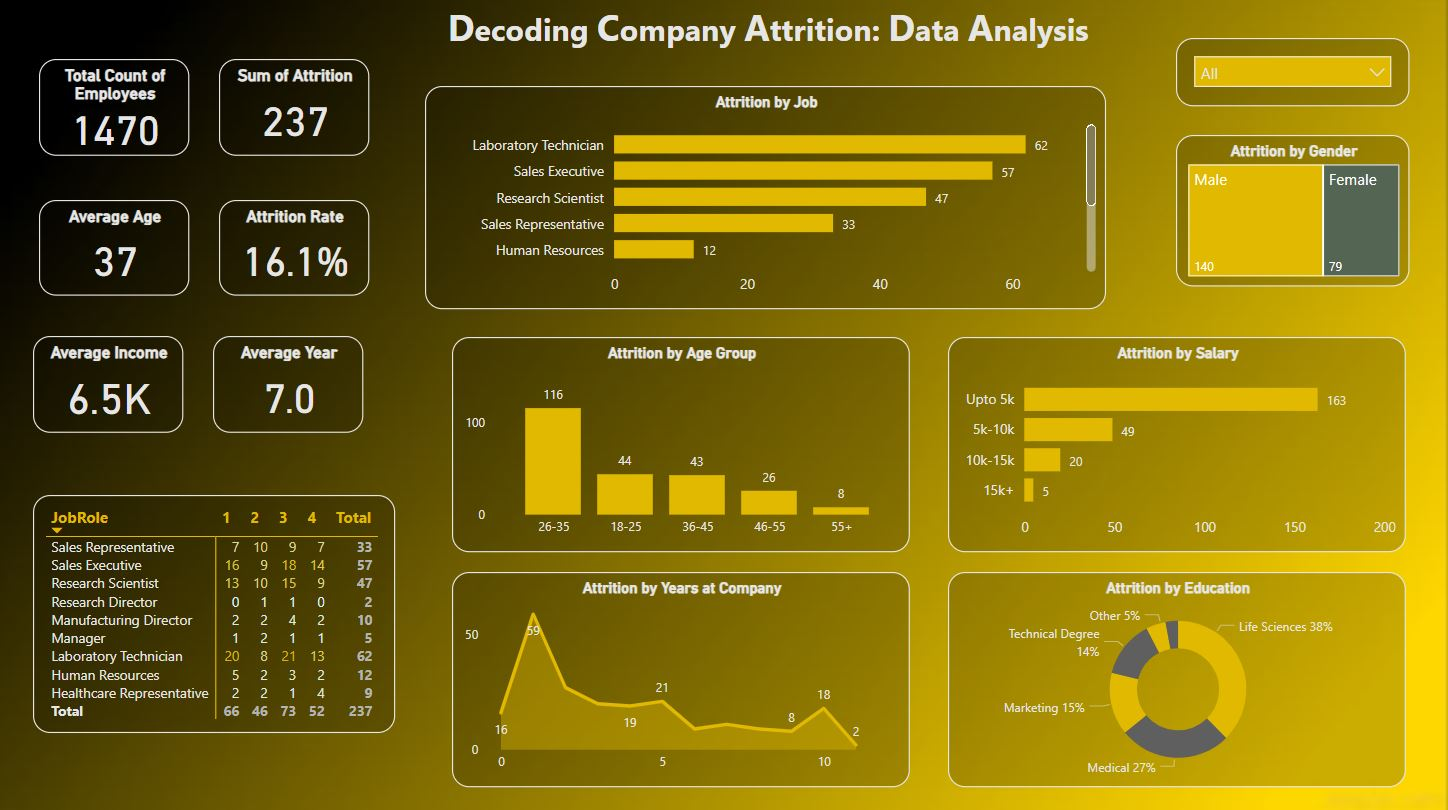

The dashboard page shown, as its layout file describes it:
{"tool":"powerbi","page":{"name":"Page 1","canvas":[1280,720],"ordinal":0},"visuals":[{"type":"card","title":"Total Count of Employees","fields":{"Values":["CountNonNull(HR Analytics.EmpID)"]},"box":[37.8,56.2,131.7,85.2],"z":0},{"type":"card","title":"Sum of Attrition","fields":{"Values":["Sum(HR Analytics.AttritionCount)"]},"box":[195.8,56.2,131.7,85.2],"z":1000},{"type":"card","title":"Attrition Rate ","fields":{"Values":["HR Analytics.AttritionRate"]},"box":[195.8,180,131.7,84.3],"z":2000},{"type":"card","title":"Average Age","fields":{"Values":["Avg(HR Analytics.Age)"]},"box":[37.8,180,131.7,84.3],"z":3000},{"type":"card","title":"Average Year","fields":{"Values":["Avg(HR Analytics.YearsAtCompany)"]},"box":[190.5,299.4,131.7,85.2],"z":4000},{"type":"card","title":"Average Income","fields":{"Values":["Avg(HR Analytics.MonthlyIncome)"]},"box":[32.5,299.4,131.7,85.2],"z":5000},{"type":"donutChart","title":"Attrition by Education ","fields":{"Y":["Sum(HR Analytics.AttritionCount)"],"Category":["HR Analytics.EducationField"]},"box":[835.9,506.6,402.1,188.8],"z":6000},{"type":"columnChart","title":"Attrition by Age Group","fields":{"Category":["HR Analytics.AgeGroup"],"Y":["Sum(HR Analytics.AttritionCount)"]},"box":[400.4,300.3,402.1,188.8],"z":7000},{"type":"pivotTable","fields":{"Rows":["HR Analytics.JobRole"],"Values":["Sum(HR Analytics.AttritionCount)"],"Columns":["HR Analytics.JobSatisfaction"]},"box":[32.5,439,317.9,209],"z":8000},{"type":"barChart","title":"Attrition by Salary","fields":{"Category":["HR Analytics.SalarySlab"],"Y":["Sum(HR Analytics.AttritionCount)"]},"box":[835.9,300.3,402.1,188.8],"z":9000},{"type":"barChart","title":"Attrition by Job ","fields":{"Y":["Sum(HR Analytics.AttritionCount)"],"Category":["HR Analytics.JobRole"]},"box":[376.7,79.9,598,195.8],"z":10000},{"type":"areaChart","title":"Attrition by Years at Company","fields":{"Category":["HR Analytics.YearsAtCompany"],"Y":["Sum(HR Analytics.AttritionCount)"]},"box":[400.4,506.6,402.1,188.8],"z":11000},{"type":"treemap","title":"Attrition by Gender","fields":{"Group":["HR Analytics.Gender"],"Values":["Sum(HR Analytics.AttritionCount)"]},"box":[1036.1,122.9,205.5,133.5],"z":12000},{"type":"slicer","fields":{"Values":["HR Analytics.Department"]},"box":[1036.1,37.8,205.5,59.7],"z":13000},{"type":"textbox","box":[391.6,0,583,57.1],"z":14000}]}

Visuals, with their boxes in screenshot pixels (x1, y1, x2, y2), scaled from the page's 1280x720 canvas onto the 1448x810 screenshot:
"Total Count of Employees" card: left=43, top=63, right=192, bottom=159
"Sum of Attrition" card: left=221, top=63, right=370, bottom=159
"Attrition Rate " card: left=221, top=202, right=370, bottom=297
"Average Age" card: left=43, top=202, right=192, bottom=297
"Average Year" card: left=216, top=337, right=364, bottom=433
"Average Income" card: left=37, top=337, right=186, bottom=433
"Attrition by Education " donutChart: left=946, top=570, right=1400, bottom=782
"Attrition by Age Group" columnChart: left=453, top=338, right=908, bottom=550
pivotTable - HR Analytics.JobRole x Sum(HR Analytics.AttritionCount): left=37, top=494, right=396, bottom=729
"Attrition by Salary" barChart: left=946, top=338, right=1400, bottom=550
"Attrition by Job " barChart: left=426, top=90, right=1103, bottom=310
"Attrition by Years at Company" areaChart: left=453, top=570, right=908, bottom=782
"Attrition by Gender" treemap: left=1172, top=138, right=1405, bottom=288
slicer - HR Analytics.Department: left=1172, top=43, right=1405, bottom=110
textbox: left=443, top=0, right=1103, bottom=64
